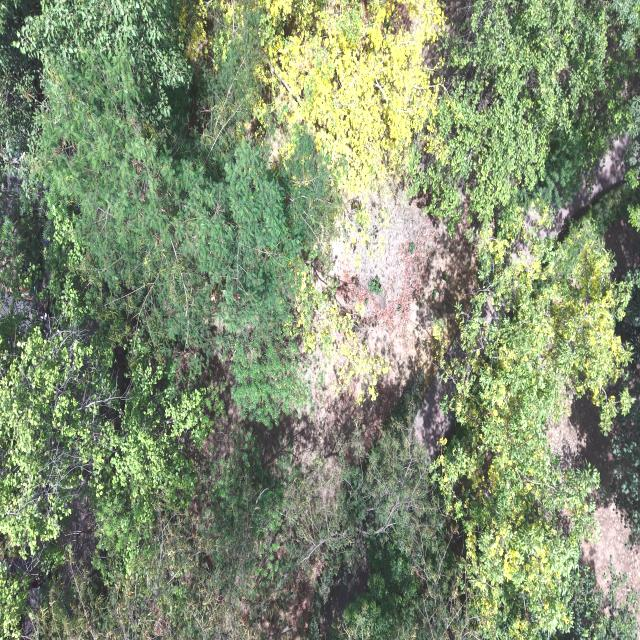DRY_AREA: (251, 193, 475, 510), (280, 193, 474, 461), (288, 193, 475, 471), (282, 193, 475, 461), (287, 190, 476, 461), (293, 193, 475, 462), (295, 192, 475, 455), (298, 192, 475, 452), (333, 193, 475, 384), (547, 398, 639, 590), (547, 399, 639, 590), (580, 423, 639, 589), (539, 135, 629, 239), (554, 135, 629, 234), (582, 503, 639, 590), (412, 373, 454, 460), (604, 220, 639, 280)
VEGETATION_TREE: (0, 0, 639, 639), (19, 3, 335, 421), (437, 221, 631, 637), (412, 0, 636, 242), (259, 0, 442, 197), (333, 396, 474, 639), (558, 564, 637, 639), (612, 404, 639, 541)
